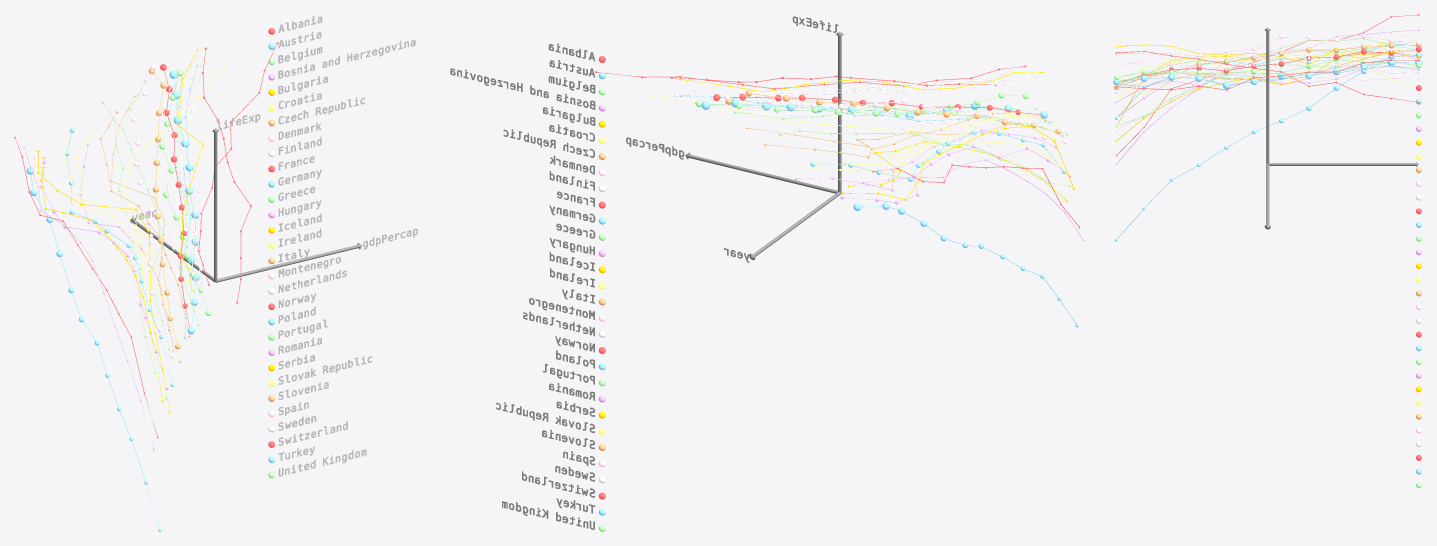
The model's file is gapminder.gltf.
3 renders of one model, left to right at view 1: azimuth 30°, elevation 25°; view 2: azimuth 150°, elevation 25°; view 3: azimuth 270°, elevation 25°, orthographic. The views are drawn at different scales.
Visible parts, largest first — view 1: Data, arrow_lifeExp, arrow_gdpPercap; view 2: Data; view 3: Data, arrow_lifeExp, arrow_year.
Part boxes in pixels (x1,y1,x2,y2): Data: (15, 44, 277, 528); arrow_lifeExp: (212, 128, 218, 281); arrow_gdpPercap: (215, 243, 361, 282); Data: (597, 66, 1083, 324); Data: (1117, 14, 1418, 238); arrow_lifeExp: (1265, 27, 1270, 163); arrow_year: (1269, 162, 1418, 166).
Size of what is drawn, in the model's own units: 0.2961 by 0.2986 by 0.2047.
Materials: 51 (41 with a texture image).
